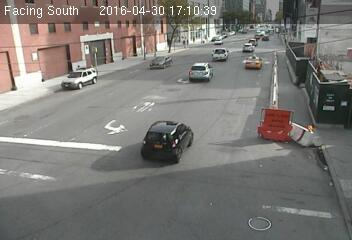pos: (76, 64, 92, 85), (304, 122, 316, 138)
